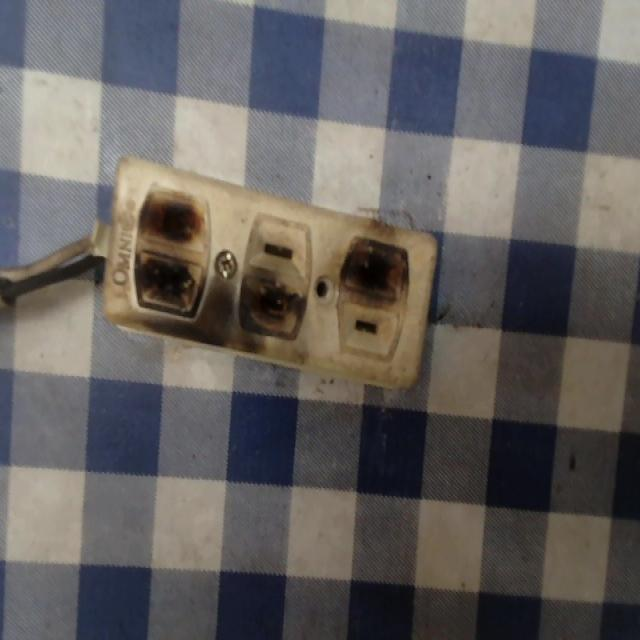-: (125, 183, 216, 321), (230, 265, 310, 352), (337, 219, 414, 308)
